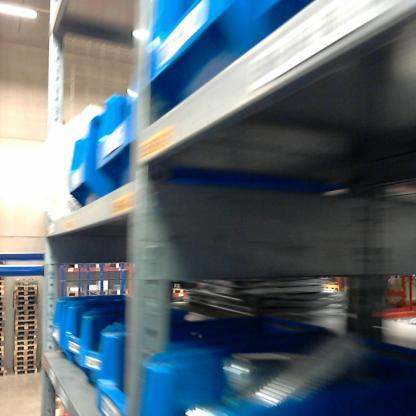pallet: (64, 289, 86, 298), (15, 277, 38, 285), (13, 344, 38, 351), (12, 349, 37, 356), (13, 354, 38, 361), (13, 304, 37, 311), (14, 323, 38, 330), (13, 334, 37, 341), (13, 370, 38, 376), (14, 285, 38, 291), (14, 315, 38, 321), (13, 360, 37, 366), (15, 310, 38, 316), (15, 319, 38, 325), (14, 365, 37, 371), (15, 295, 37, 301), (14, 291, 38, 296), (15, 330, 39, 335), (13, 340, 37, 345), (15, 300, 38, 305), (88, 290, 107, 296), (172, 288, 186, 295), (109, 264, 125, 269), (90, 264, 108, 268), (66, 265, 85, 268), (1, 369, 7, 376), (0, 281, 6, 287), (0, 321, 6, 327), (0, 365, 6, 371), (0, 261, 7, 266), (0, 345, 5, 352), (0, 351, 5, 358), (0, 355, 5, 362), (0, 360, 5, 367), (0, 276, 6, 281), (0, 286, 5, 292), (0, 291, 5, 297), (0, 306, 5, 312), (0, 311, 5, 317), (0, 331, 5, 337), (0, 336, 5, 342), (0, 317, 5, 322), (0, 342, 5, 347), (0, 296, 4, 302), (0, 302, 4, 307), (0, 327, 4, 332)
